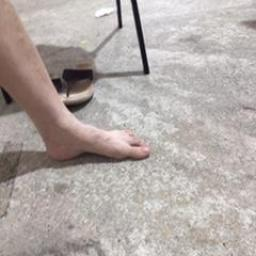Medial View -Left Foot-: (28, 109, 154, 175)
